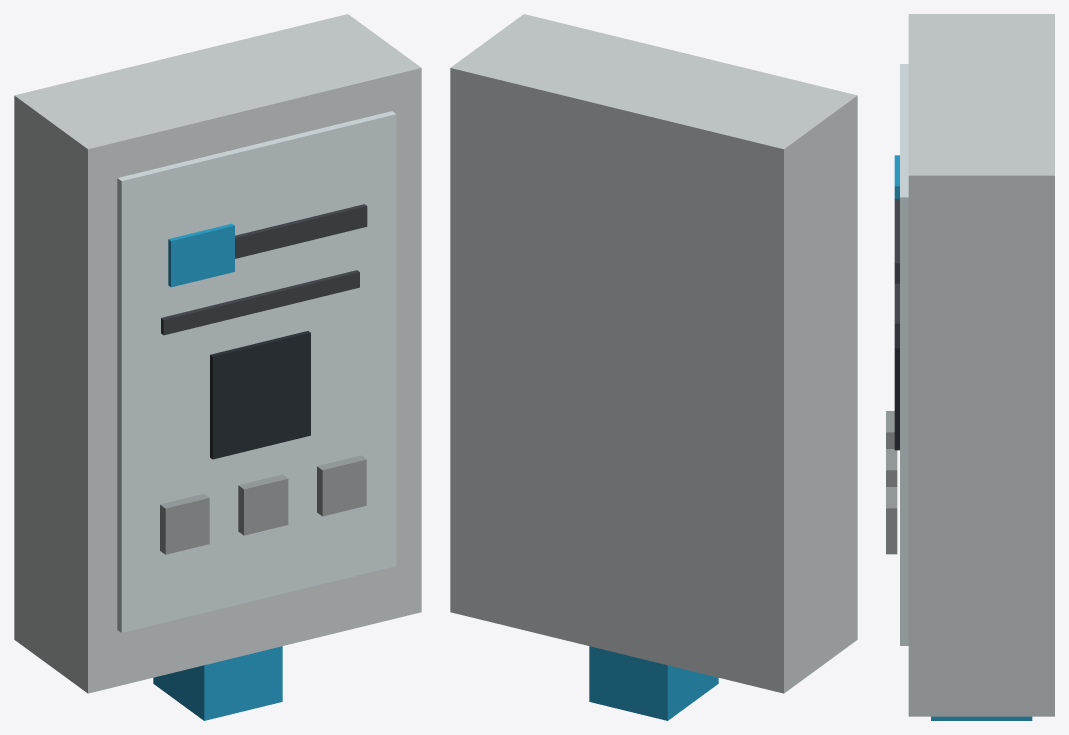
File: dragino_temperature_humidity.glb
The picture shows the model from 3 angles, left to right: view 1: azimuth 30°, elevation 25°; view 2: azimuth 150°, elevation 25°; view 3: azimuth 270°, elevation 25°; orthographic projection.
Parts seen in each view (by area): view 1: white enclosure, front label, label barcode, indicator (×3), blue connector, label text, blue logo, sensor marking; view 2: white enclosure, blue connector; view 3: white enclosure, front label, indicator (×3), label barcode, sensor marking, blue connector, label text.
Boxes of the visible parts, x1=… form: white enclosure: x1=14, y1=14, x2=421, y2=693; front label: x1=117, y1=111, x2=396, y2=632; label barcode: x1=210, y1=331, x2=310, y2=459; indicator (×3): x1=160, y1=455, x2=366, y2=554; blue connector: x1=153, y1=646, x2=282, y2=720; label text: x1=161, y1=270, x2=359, y2=335; blue logo: x1=168, y1=223, x2=234, y2=287; sensor marking: x1=235, y1=204, x2=367, y2=258; white enclosure: x1=450, y1=14, x2=857, y2=693; blue connector: x1=589, y1=646, x2=718, y2=720; white enclosure: x1=908, y1=14, x2=1054, y2=716; front label: x1=900, y1=64, x2=908, y2=645; indicator (×3): x1=886, y1=411, x2=897, y2=554; label barcode: x1=894, y1=339, x2=899, y2=450; sensor marking: x1=894, y1=199, x2=899, y2=283; blue connector: x1=931, y1=716, x2=1032, y2=720; label text: x1=894, y1=283, x2=899, y2=338.
Size of the model in its own units: 0.068 by 0.119 by 0.03.
